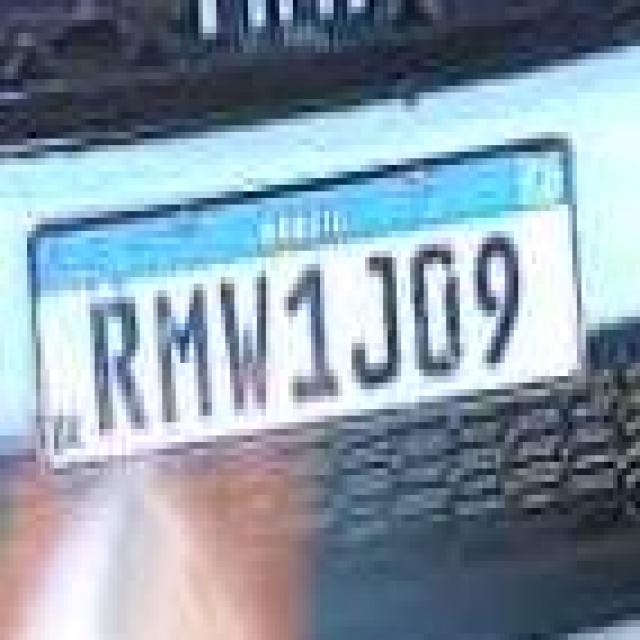0: (407, 232, 470, 386)
1: (284, 256, 344, 412)
9: (468, 224, 525, 375)
J: (346, 245, 404, 392)
M: (154, 273, 212, 428)
R: (90, 283, 140, 436)
W: (215, 269, 273, 419)
